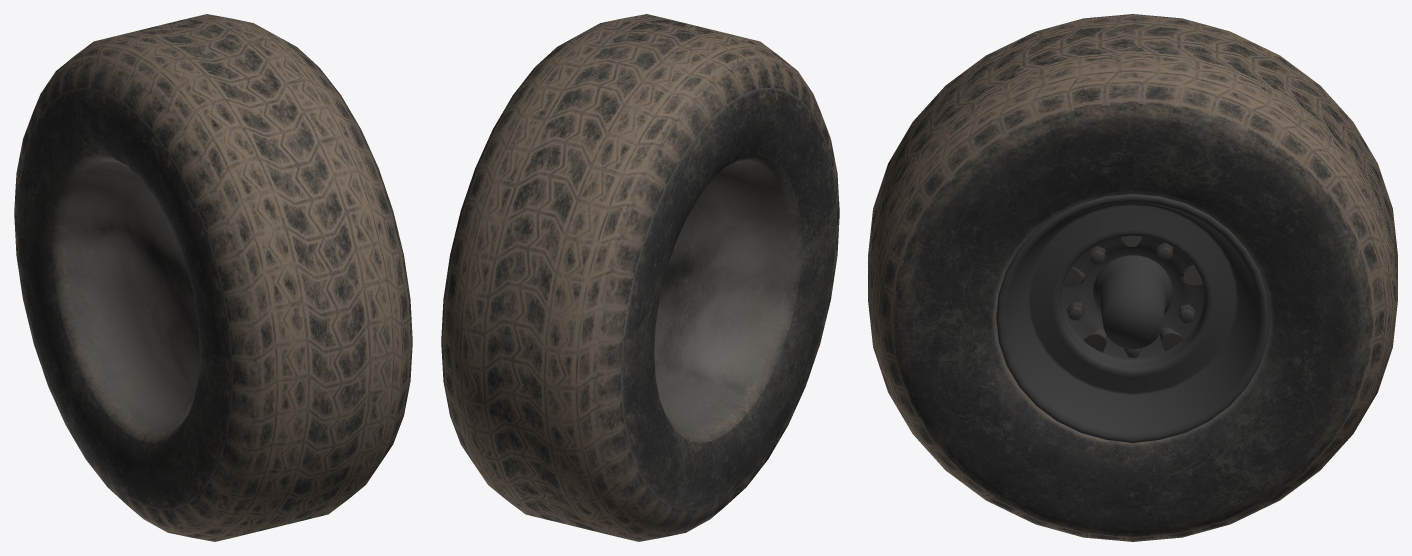
File: wheel.obj
3 views of the same model, side by side, from view 1: azimuth 30°, elevation 25°; view 2: azimuth 150°, elevation 25°; view 3: azimuth 270°, elevation 25° (orthographic). The views are drawn at different scales.
Visible parts, largest first — view 1: Wheel_Front_L; view 2: Wheel_Front_L; view 3: Wheel_Front_L.
Part boxes in pixels (x1,y1,x2,y2): Wheel_Front_L: (14, 14, 412, 541); Wheel_Front_L: (441, 14, 839, 541); Wheel_Front_L: (868, 14, 1397, 541).
Size of the model in its own units: 0.2984 by 0.7347 by 0.7347.
